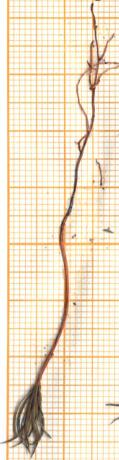flower: (5, 383, 64, 460)
root: (54, 0, 119, 226)
stem: (18, 228, 74, 383)
